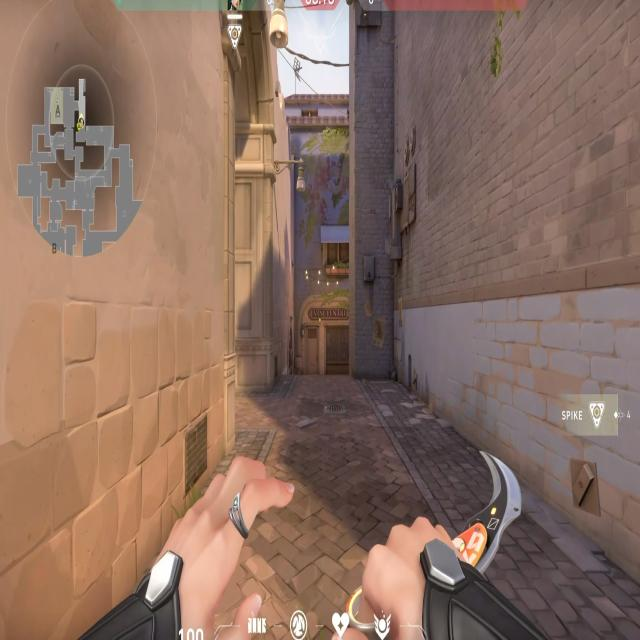Wine: (293, 280, 360, 384)
